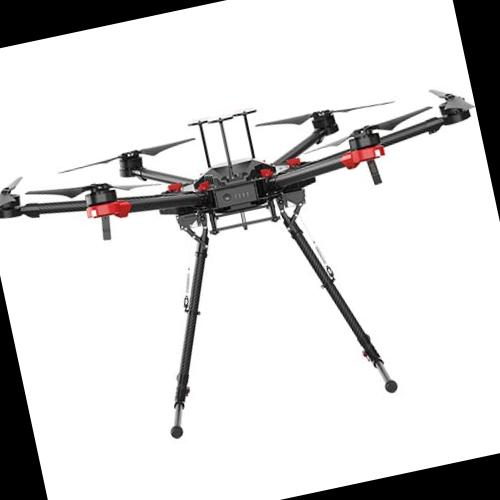drone: (0, 56, 494, 305)
